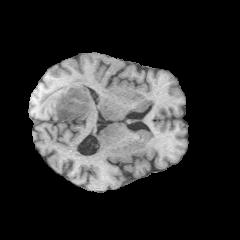glioma: (39, 79, 91, 121)
